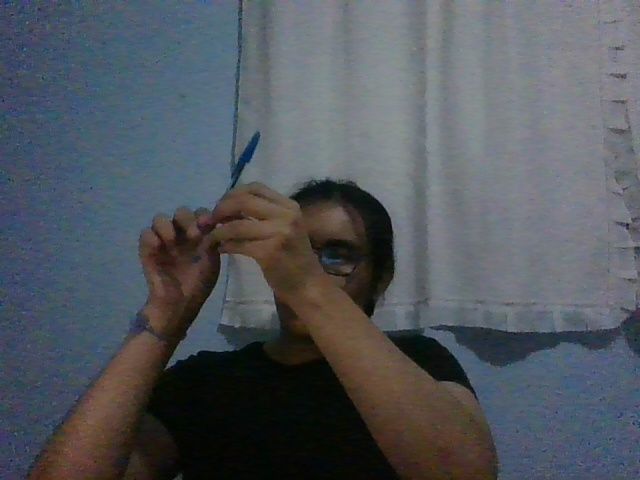pluma: (190, 131, 261, 264)
